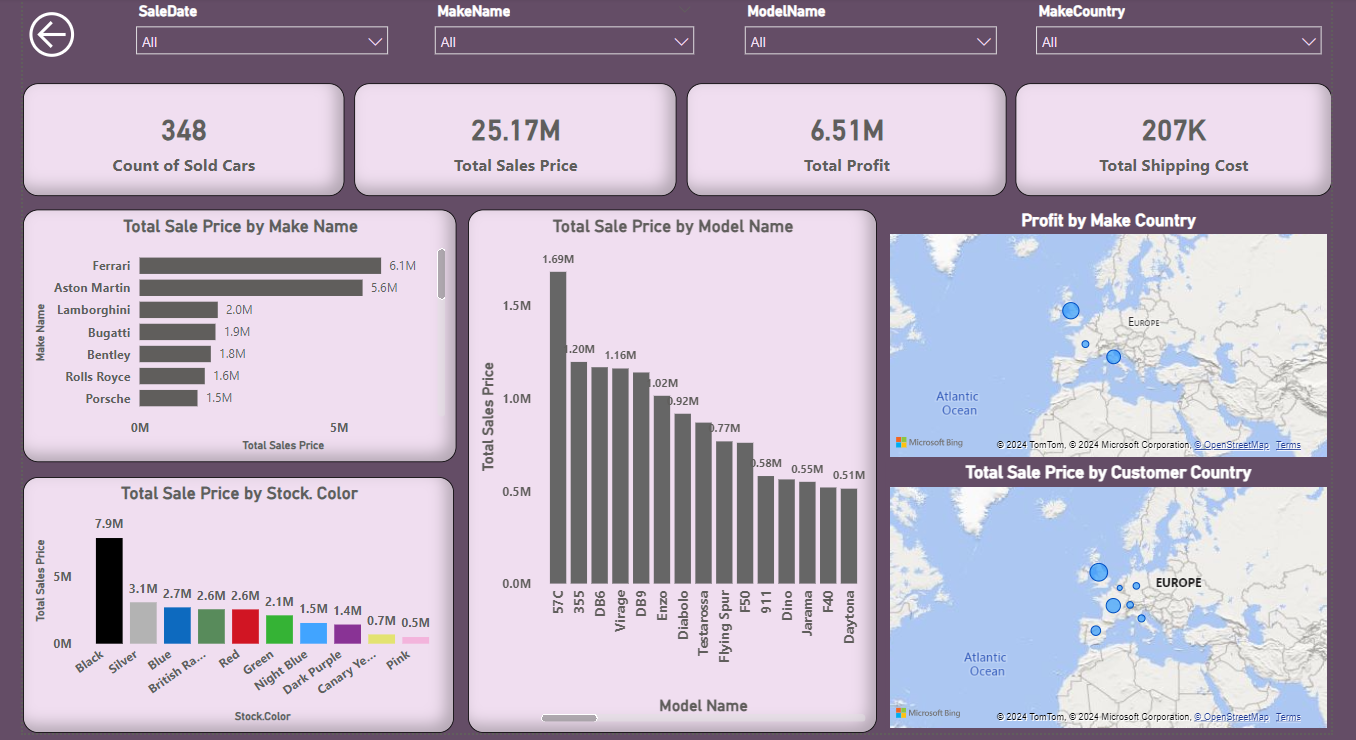

The dashboard page shown, as its layout file describes it:
{"tool":"powerbi","page":{"name":"Page 1","canvas":[1280,720],"ordinal":1},"visuals":[{"type":"card","fields":{"Values":["CountNonNull(Data_SalesDetails (2).SalesID)"]},"box":[0,84.4,314.3,110.1],"z":0},{"type":"card","fields":{"Values":["Sum(Data_SalesDetails (2).TotalSalePrice)"]},"box":[324.1,84.4,315.5,110.1],"z":1000},{"type":"card","fields":{"Values":["Data_SalesDetails (2).new profit"]},"box":[649.3,84.4,313,110.1],"z":2000},{"type":"card","fields":{"Values":["Sum(Data_SalesDetails (2).Stock.TransportInCost)"]},"box":[970.9,84.4,309.4,110.1],"z":3000},{"type":"clusteredBarChart","title":"Total Sale Price by Make Name","fields":{"Category":["Data_SalesDetails (2).MakeName"],"Y":["Sum(Data_SalesDetails (2).TotalSalePrice)"]},"box":[0,207.9,424.3,247],"z":4000},{"type":"columnChart","title":"Total Sale Price by Stock. Color","fields":{"Y":["Sum(Data_SalesDetails (2).TotalSalePrice)"],"Category":["Data_SalesDetails (2).Stock.Color"]},"box":[0,469.6,421.9,250.7],"z":5000},{"type":"slicer","fields":{"Values":["Data_SalesDetails (2).SaleDate"]},"box":[100.3,0,266.6,79.5],"z":6000},{"type":"slicer","fields":{"Values":["Data_SalesDetails (2).MakeName"]},"box":[392.5,0,273.9,68.5],"z":7000},{"type":"slicer","fields":{"Values":["Data_SalesDetails (2).ModelName"]},"box":[695.8,0,266.6,74.6],"z":8000},{"type":"map","title":" Profit by Make Country","fields":{"Size":["Data_SalesDetails (2).new profit"],"Category":["Data_SalesDetails (2).MakeCountry"]},"box":[843.8,207.9,436.6,247],"z":9000},{"type":"map","title":" Total Sale Price by Customer Country","fields":{"Size":["Sum(Data_SalesDetails (2).TotalSalePrice)"],"Category":["Data_SalesDetails (2).Customer.Country"]},"box":[843.4,454.6,436.6,265.4],"z":10000},{"type":"clusteredColumnChart","title":"Total Sale Price by Model Name","fields":{"Category":["Data_SalesDetails (2).ModelName"],"Y":["Sum(Data_SalesDetails (2).TotalSalePrice)"]},"box":[435.3,207.9,399.9,512.4],"z":11000},{"type":"actionButton","box":[0,8.6,107.6,56.3],"z":12000},{"type":"slicer","fields":{"Values":["Data_SalesDetails (2).MakeCountry"]},"box":[980.7,0,299.6,61.1],"z":13000}]}

Visuals, with their boxes in screenshot pixels (x1, y1, x2, y2):
card - CountNonNull(Data_SalesDetails (2).SalesID): BBox(21, 82, 340, 194)
card - Sum(Data_SalesDetails (2).TotalSalePrice): BBox(350, 82, 671, 194)
card - Data_SalesDetails (2).new profit: BBox(681, 82, 999, 194)
card - Sum(Data_SalesDetails (2).Stock.TransportInCost): BBox(1007, 82, 1322, 194)
"Total Sale Price by Make Name" clusteredBarChart: BBox(21, 208, 452, 459)
"Total Sale Price by Stock. Color" columnChart: BBox(21, 473, 450, 728)
slicer - Data_SalesDetails (2).SaleDate: BBox(123, 0, 394, 77)
slicer - Data_SalesDetails (2).MakeName: BBox(420, 0, 698, 66)
slicer - Data_SalesDetails (2).ModelName: BBox(728, 0, 999, 72)
" Profit by Make Country" map: BBox(878, 208, 1322, 459)
" Total Sale Price by Customer Country" map: BBox(878, 458, 1321, 728)
"Total Sale Price by Model Name" clusteredColumnChart: BBox(463, 208, 870, 728)
actionButton: BBox(21, 5, 130, 62)
slicer - Data_SalesDetails (2).MakeCountry: BBox(1017, 0, 1322, 59)
